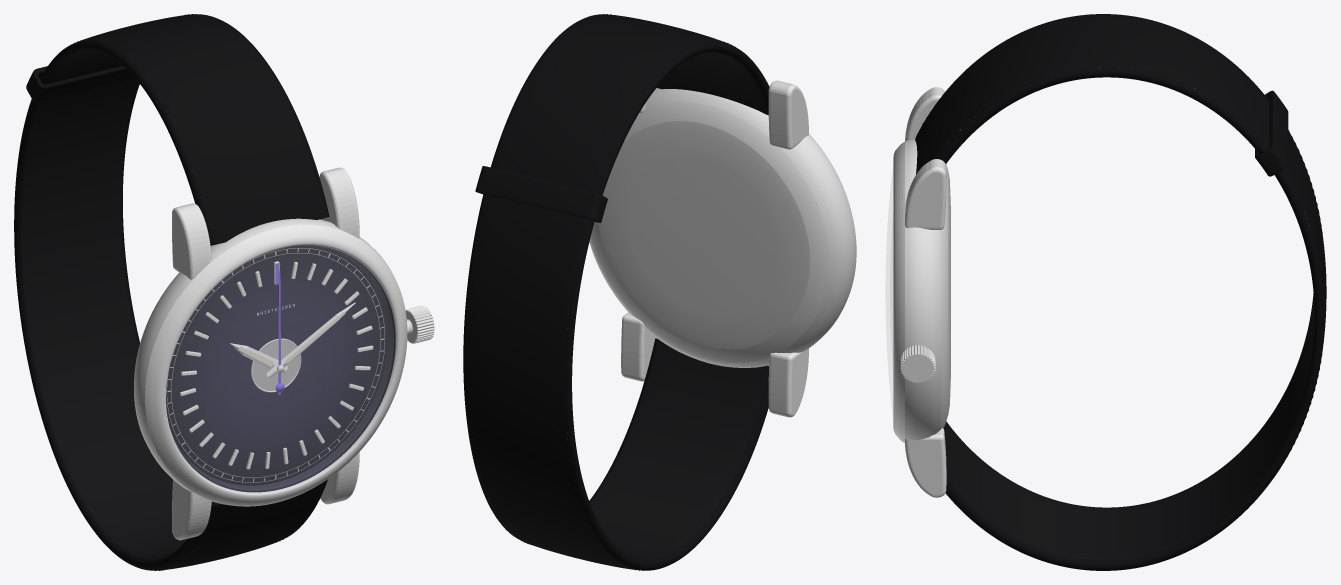
Rendered from watch.glb.
3 renders of one model, left to right at view 1: azimuth 30°, elevation 25°; view 2: azimuth 150°, elevation 25°; view 3: azimuth 270°, elevation 25°, orthographic.
Parts seen in each view (by area): view 1: strap, crystal, dial, bezel, top_bevel, flank, flange, lug, lug.002, keeper, lug.003, track (+4 smaller); view 2: strap, caseback, back_bevel, flank, keeper, lug, lug.003, lug.001; view 3: strap, flank, lug.002, lug.001, top_bevel, back_bevel, keeper, bezel, crystal, crown, lug, caseback.
Boxes of the visible parts, left/top/right/bottom form: strap: left=14, top=14, right=329, bottom=570; crystal: left=166, top=245, right=393, bottom=490; dial: left=166, top=245, right=387, bottom=485; bezel: left=154, top=233, right=405, bottom=503; top_bevel: left=145, top=224, right=407, bottom=506; flank: left=134, top=218, right=405, bottom=504; flange: left=169, top=245, right=395, bottom=492; lug: left=172, top=203, right=211, bottom=279; lug.002: left=319, top=167, right=359, bottom=238; keeper: left=26, top=65, right=134, bottom=101; lug.003: left=172, top=479, right=211, bottom=540; track: left=166, top=248, right=385, bottom=482; strap: left=463, top=14, right=769, bottom=570; caseback: left=598, top=121, right=809, bottom=349; back_bevel: left=590, top=102, right=828, bottom=362; flank: left=589, top=88, right=856, bottom=367; keeper: left=475, top=166, right=607, bottom=222; lug: left=768, top=80, right=808, bottom=149; lug.003: left=768, top=348, right=808, bottom=417; lug.001: left=621, top=312, right=656, bottom=381; strap: left=915, top=14, right=1326, bottom=570; flank: left=905, top=139, right=940, bottom=440; lug.002: left=905, top=159, right=946, bottom=229; lug.001: left=905, top=428, right=946, bottom=497; top_bevel: left=898, top=141, right=904, bottom=443; back_bevel: left=940, top=164, right=948, bottom=429; keeper: left=1255, top=90, right=1288, bottom=176; bezel: left=893, top=148, right=897, bottom=436; crystal: left=885, top=170, right=892, bottom=414; crown: left=900, top=345, right=935, bottom=383; lug: left=905, top=87, right=945, bottom=141; caseback: left=948, top=171, right=950, bottom=413.
Bounding box in the file's own units: 2.18 × 3.67 × 2.88.
15 materials, 1 textured.
